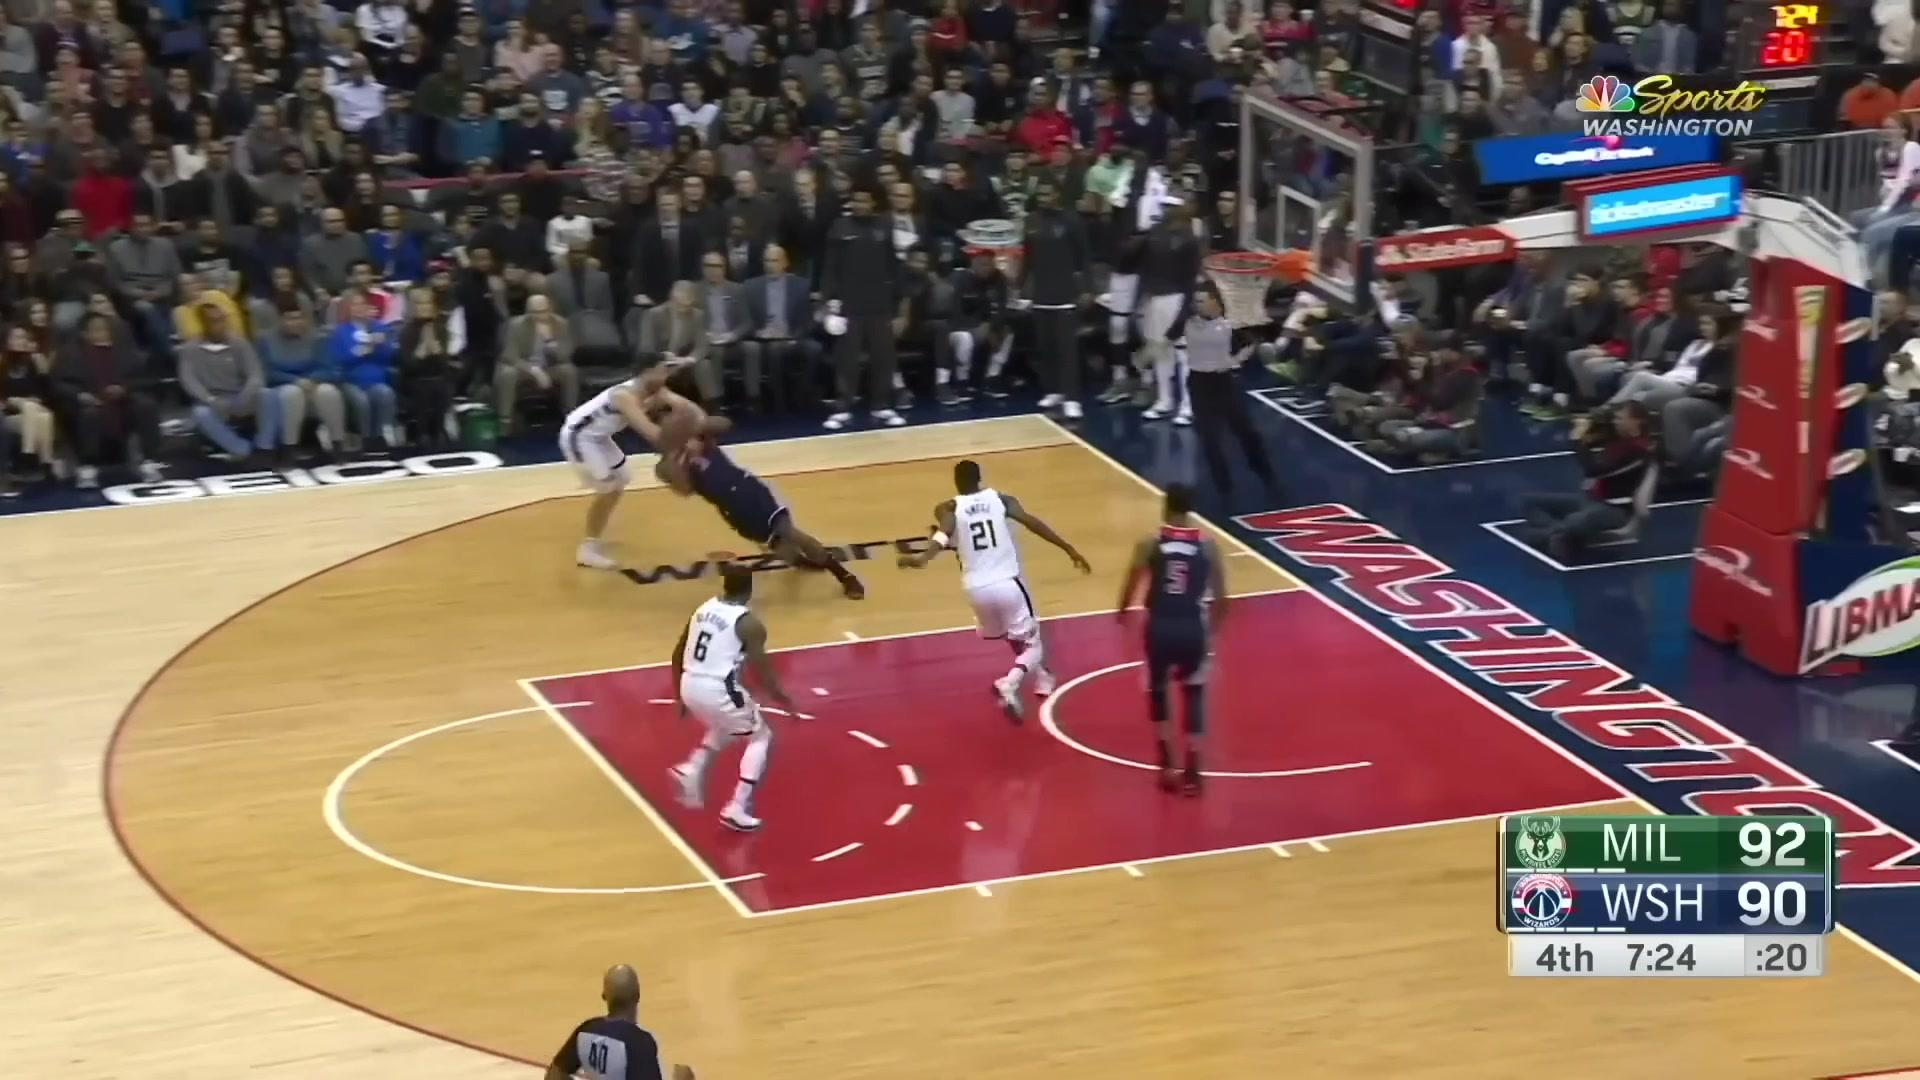foul: (505, 345, 858, 603)
